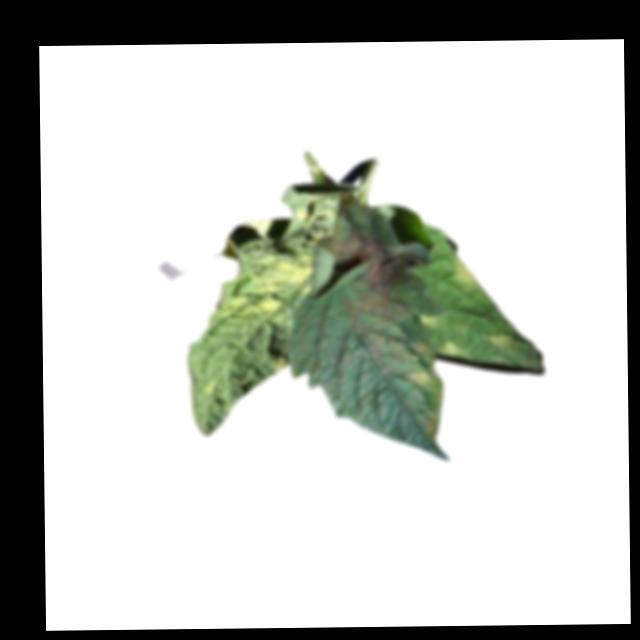Leaf_Mold: (330, 225, 443, 443), (231, 255, 314, 324), (447, 258, 480, 291), (480, 331, 514, 351), (439, 341, 463, 360)
